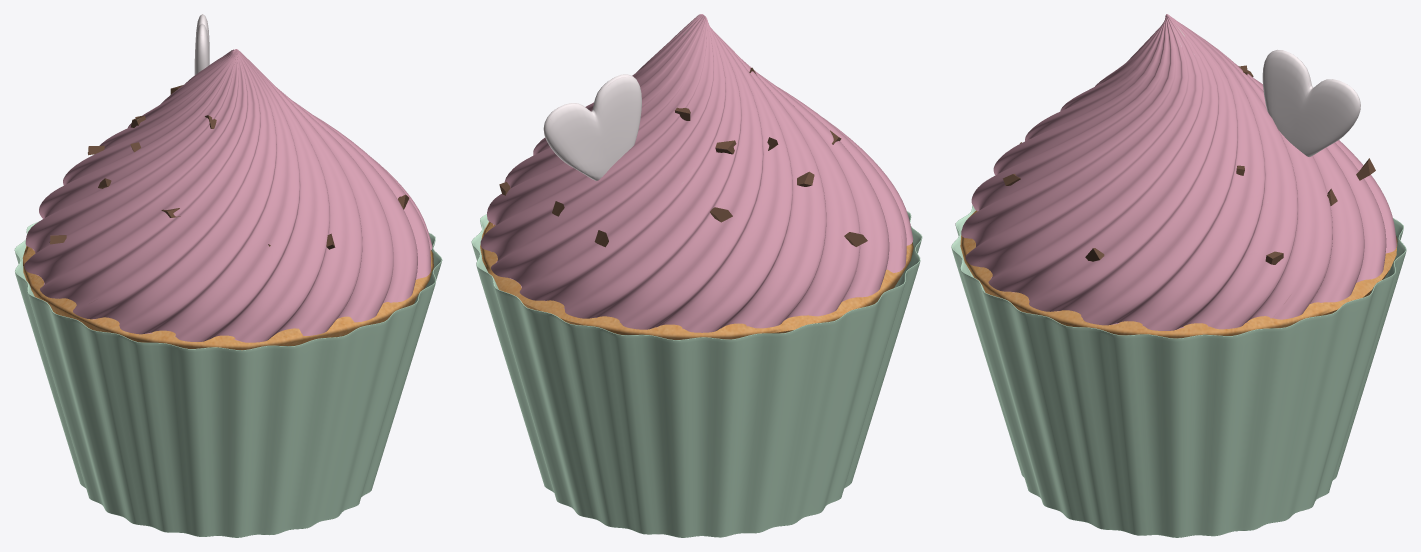
The model's file is muffin.fbx.
The picture shows the model from 3 angles, left to right: view 1: azimuth 30°, elevation 25°; view 2: azimuth 150°, elevation 25°; view 3: azimuth 270°, elevation 25°; orthographic projection. The views are drawn at different scales.
Visible parts, largest first — view 1: pCylinder28; view 2: pCylinder28; view 3: pCylinder28.
Part boxes in pixels (bbox=[...]): pCylinder28: bbox=[14, 14, 442, 537]; pCylinder28: bbox=[471, 14, 922, 537]; pCylinder28: bbox=[951, 14, 1406, 537].
Bounding box in the file's own units: 211 × 235 × 212.
Materials: 1 (1 with a texture image).
